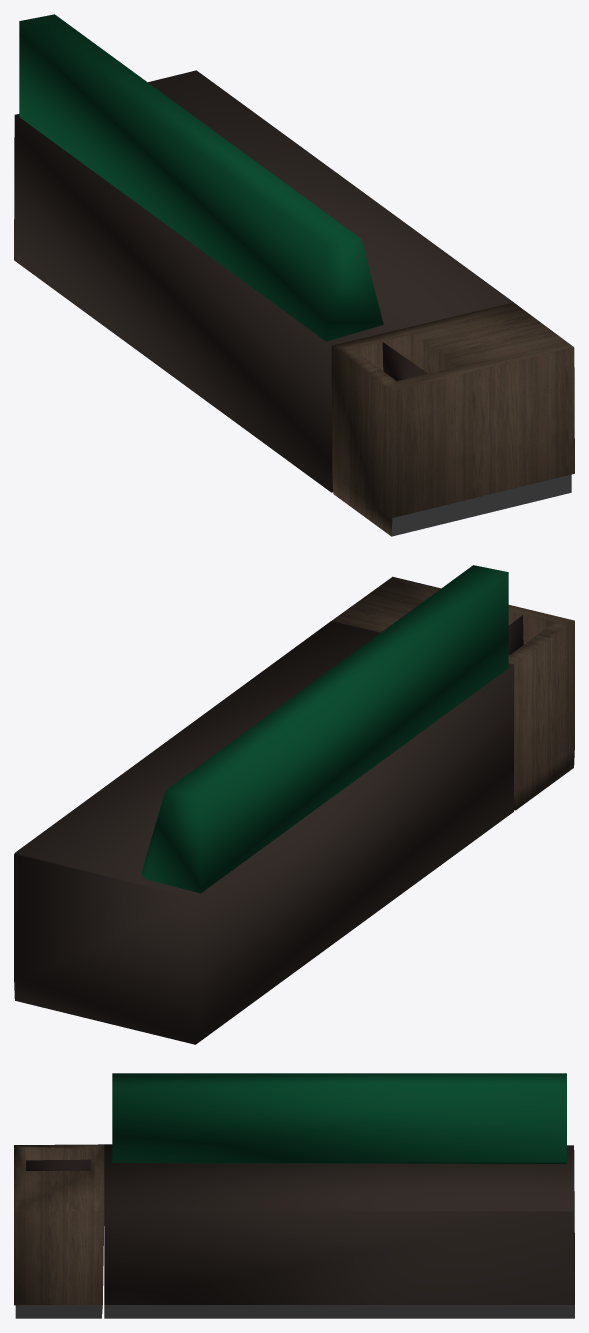
File: dazycj.obj
3 renders of one model, top to bottom at view 1: azimuth 30°, elevation 25°; view 2: azimuth 150°, elevation 25°; view 3: azimuth 270°, elevation 25°, orthographic. The views are drawn at different scales.
Bounding box in the file's own units: 5.97 × 7.6 × 21.46.
